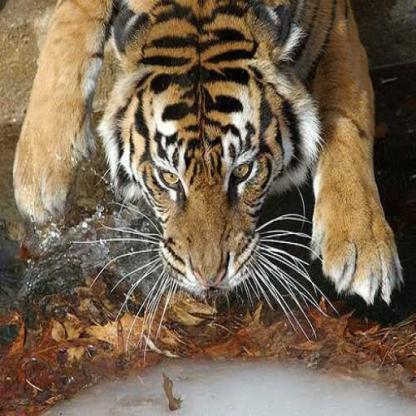Tiger: (5, 0, 415, 308)
